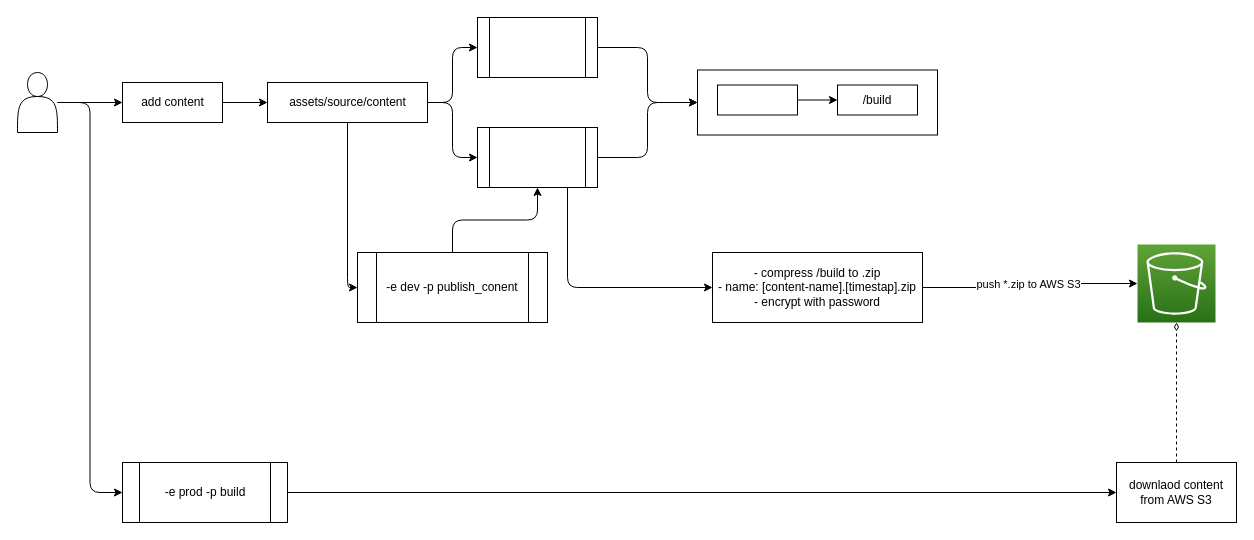
Some shapes in this 1254 by 540 pixel diagram are drawn without their labels. The box of each missing label's shape, as (x1, y1, x2, y2) in pixels:
-e dev -p build: (476, 126, 598, 188)
-e dev -p dev: (476, 16, 598, 78)
/content: (716, 84, 798, 115)
